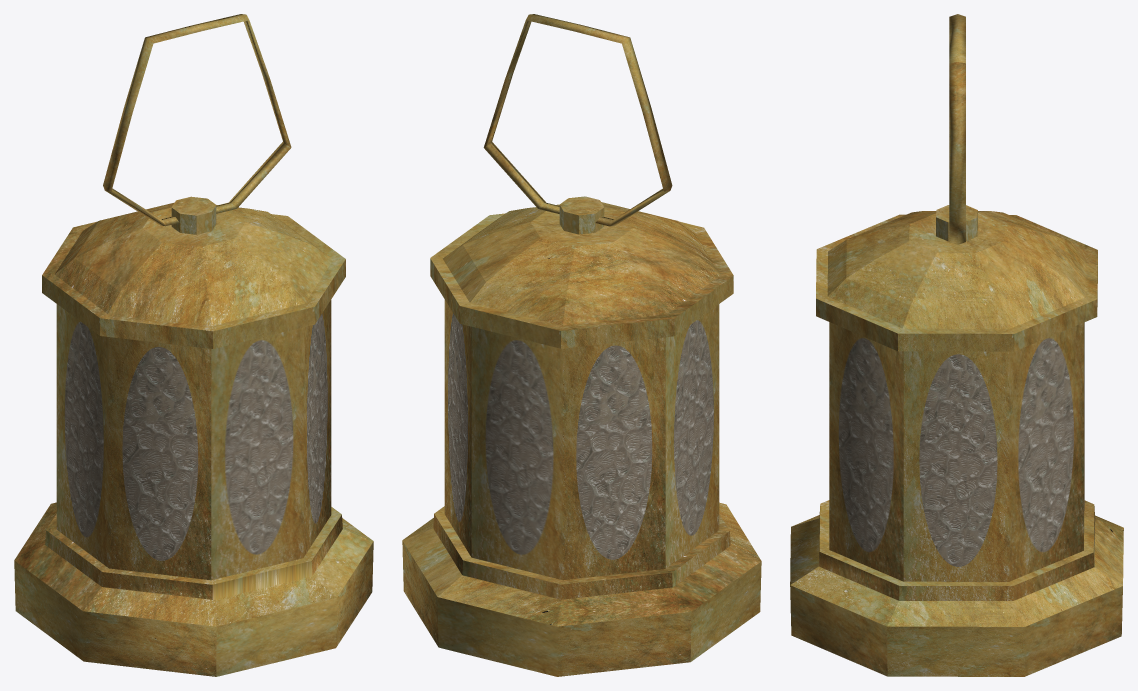
File: lantern.FBX
3 renders of one model, left to right at view 1: azimuth 30°, elevation 25°; view 2: azimuth 150°, elevation 25°; view 3: azimuth 270°, elevation 25°, orthographic.
Parts seen in each view (by area): view 1: Torus001; view 2: Torus001; view 3: Torus001.
Boxes of the visible parts, x1,y1,x2,y2 form: Torus001: [14, 14, 373, 676]; Torus001: [402, 14, 761, 676]; Torus001: [790, 14, 1123, 676].
Size of the model in its own units: 112 by 212 by 112.
Materials: 1 (1 with a texture image).
